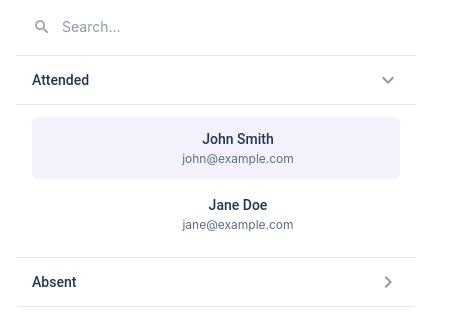
it: SearchableList › shows "No results found" when search has no matches
The width and height of the screenshot is (449, 324).
In the field with placeholder "Search...": (246, 27) [60,16,432,38], type "nonexistent"
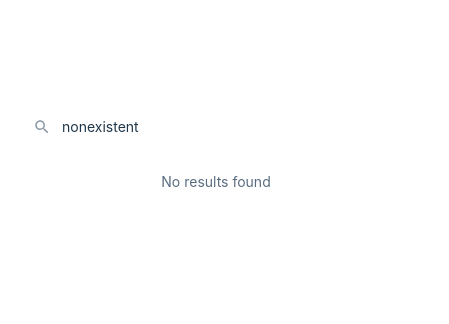
Check: the text "No results found" is shown, box [16,154,416,208]
